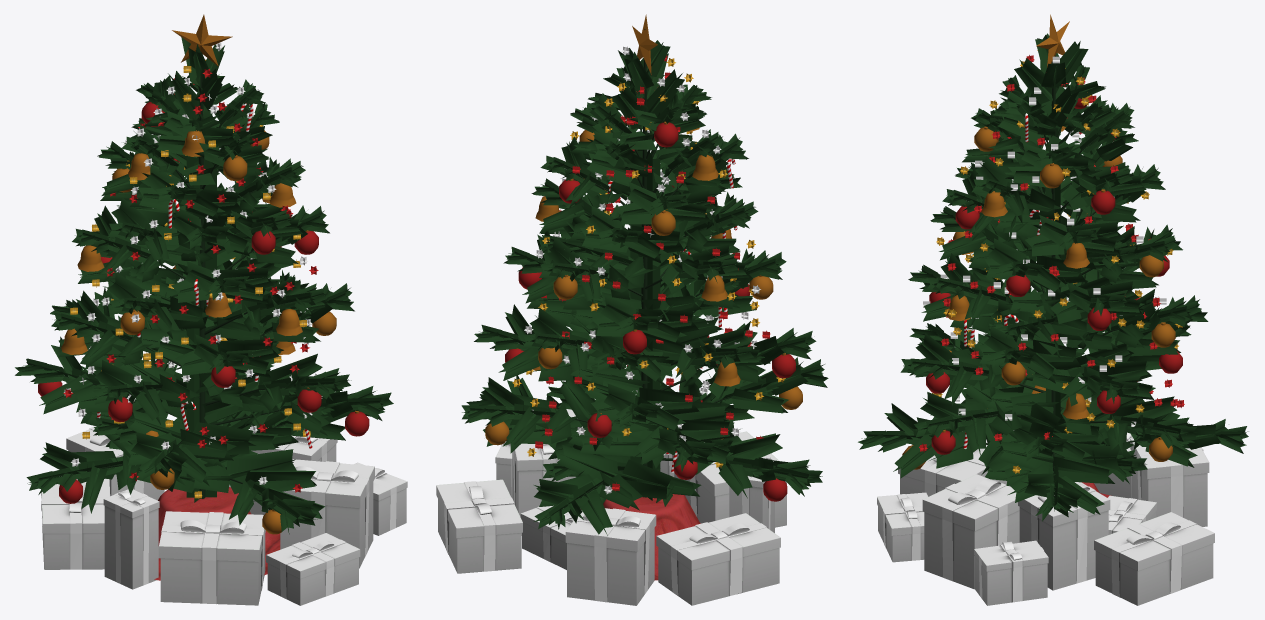
Rendered from treeee.fbx.
3 renders of one model, left to right at view 1: azimuth 30°, elevation 25°; view 2: azimuth 150°, elevation 25°; view 3: azimuth 270°, elevation 25°, orthographic. The views are drawn at different scales.
Visible parts, largest first — view 1: prop_xmas_tree_int_high; view 2: prop_xmas_tree_int_high; view 3: prop_xmas_tree_int_high.
Part boxes in pixels (<box>): prop_xmas_tree_int_high: <box>15,14,407,605</box>; prop_xmas_tree_int_high: <box>436,14,828,605</box>; prop_xmas_tree_int_high: <box>858,14,1248,605</box>.
Size of the model in its own units: 193 by 282 by 195.
Materials: 9 (9 with a texture image).
